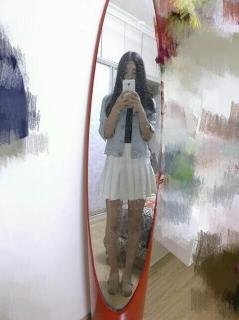short sleeve outwear: (98, 89, 157, 159)
skirt: (98, 143, 157, 201)
